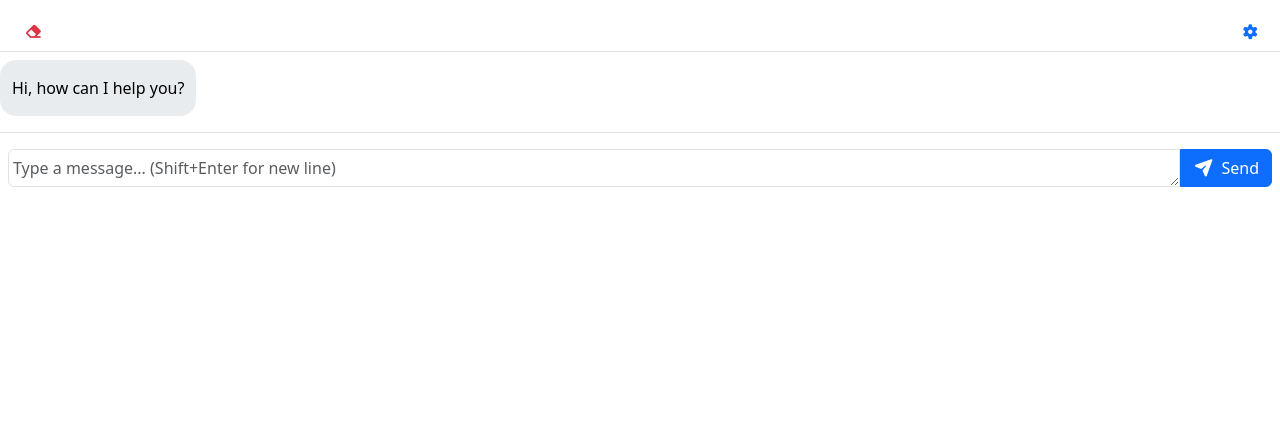
Test: Chat request errors › does not time out while a tool is running
Expected: the button "Send" is shown, [1180,149,1272,187]
Step 1. Type "hello" into the text box with placeholder "Type a message... (Shift+Enter for new line)" → (594, 168), box [8,149,1180,187]
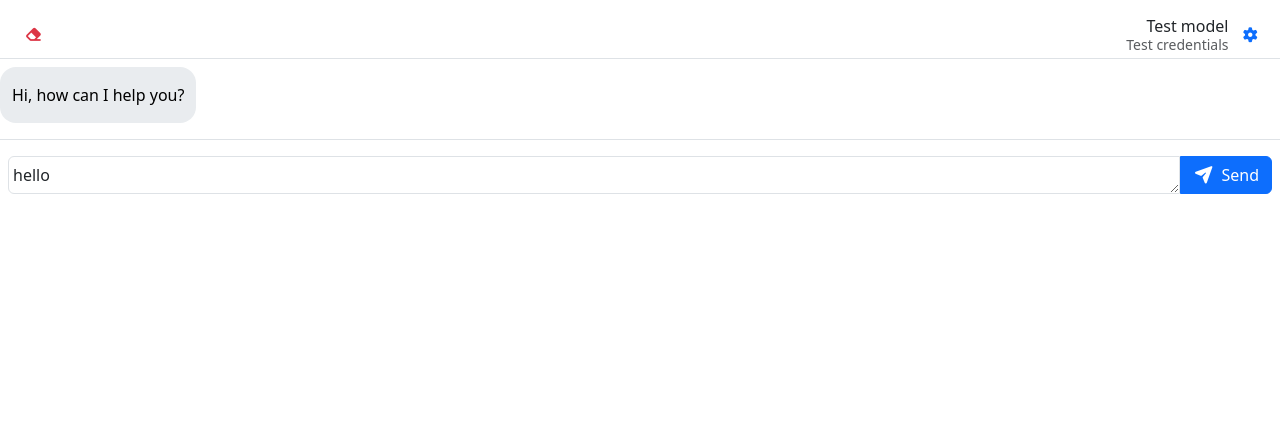
Step 2. Click the button "Send" → (1226, 174), box [1180,156,1272,194]
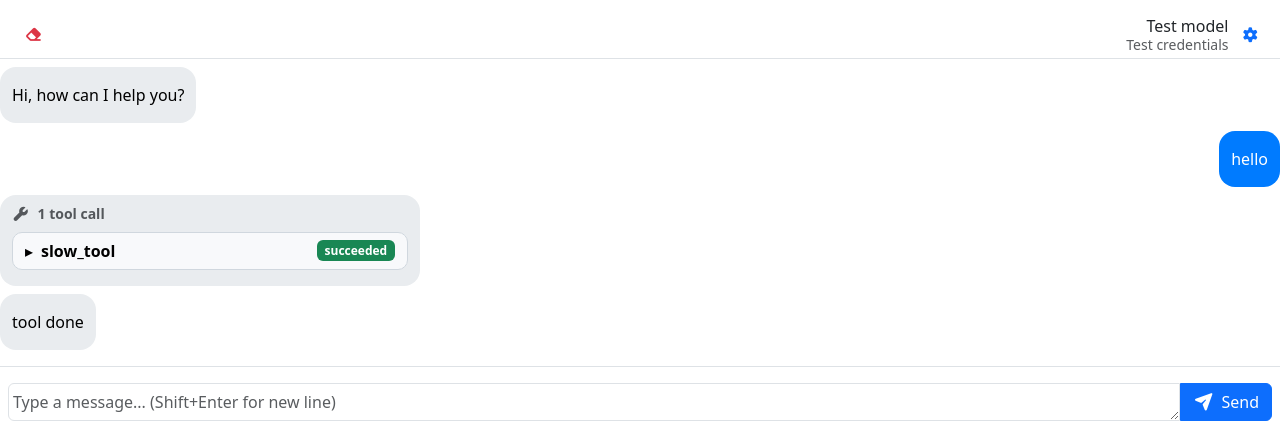
Expected: the text "tool done" is shown, [12,310,84,334]
